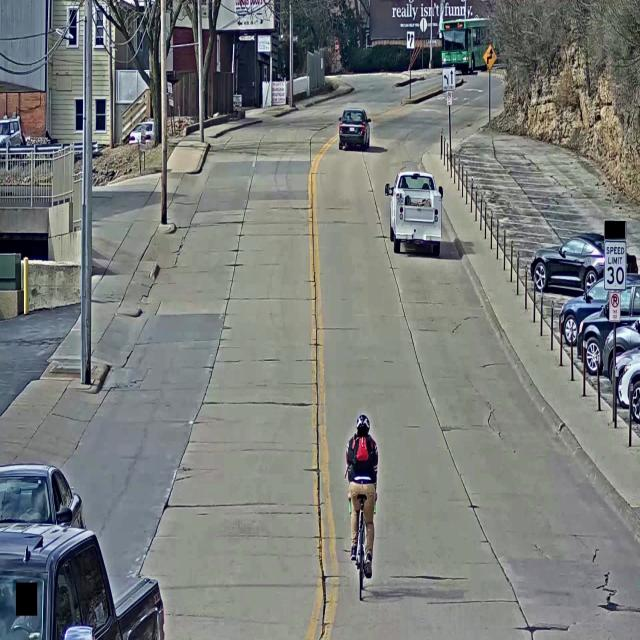bicycle: (349, 493, 376, 600)
car: (0, 522, 165, 639), (530, 233, 639, 292), (559, 273, 640, 347), (577, 280, 640, 375), (0, 464, 86, 529), (385, 171, 443, 256), (440, 21, 500, 75), (602, 315, 640, 385), (611, 346, 640, 409), (338, 108, 372, 150), (621, 357, 640, 424), (0, 118, 26, 159), (129, 120, 155, 144)
person: (346, 414, 378, 578)
